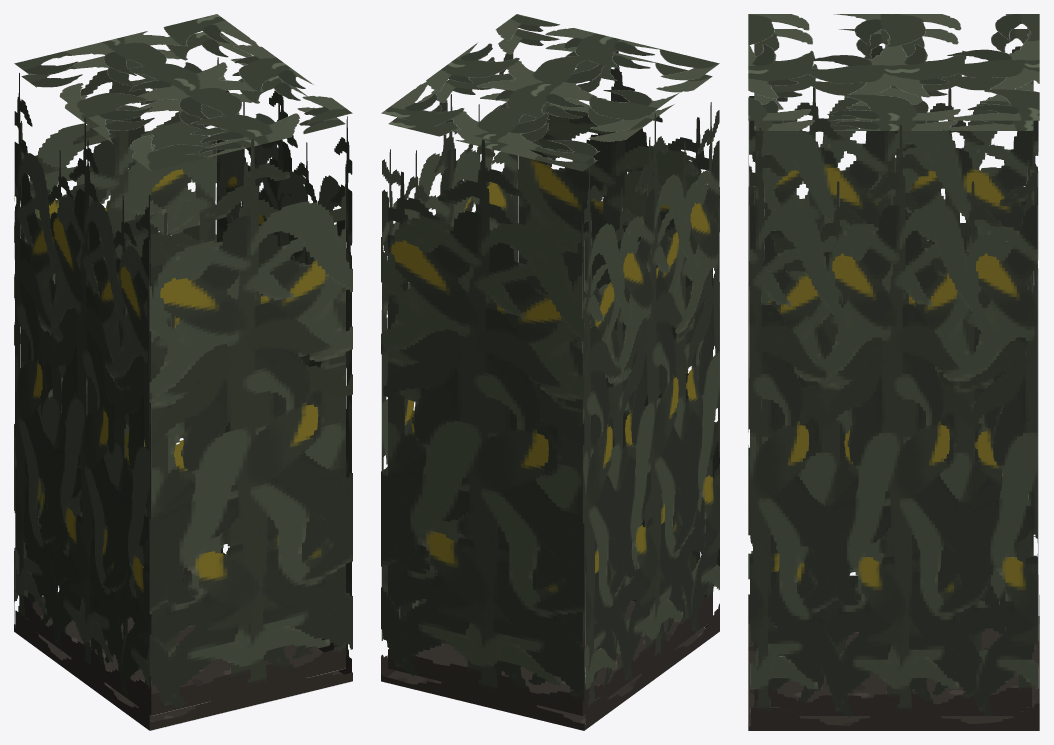
Rendered from TestCornBlocks.fbx.
3 renders of one model, left to right at view 1: azimuth 30°, elevation 25°; view 2: azimuth 150°, elevation 25°; view 3: azimuth 270°, elevation 25°, orthographic. The views are drawn at different scales.
Visible parts, largest first — view 1: Cube, Cube.001; view 2: Cube, Cube.001; view 3: Cube, Cube.001.
Part boxes in pixels (x1=…): Cube: x1=14, y1=14, x2=352, y2=730; Cube.001: x1=21, y1=32, x2=345, y2=715; Cube: x1=381, y1=14, x2=719, y2=730; Cube.001: x1=388, y1=29, x2=712, y2=715; Cube: x1=748, y1=14, x2=1039, y2=730; Cube.001: x1=754, y1=29, x2=1033, y2=715.
Size of the model in its own units: 100 by 268 by 116.
